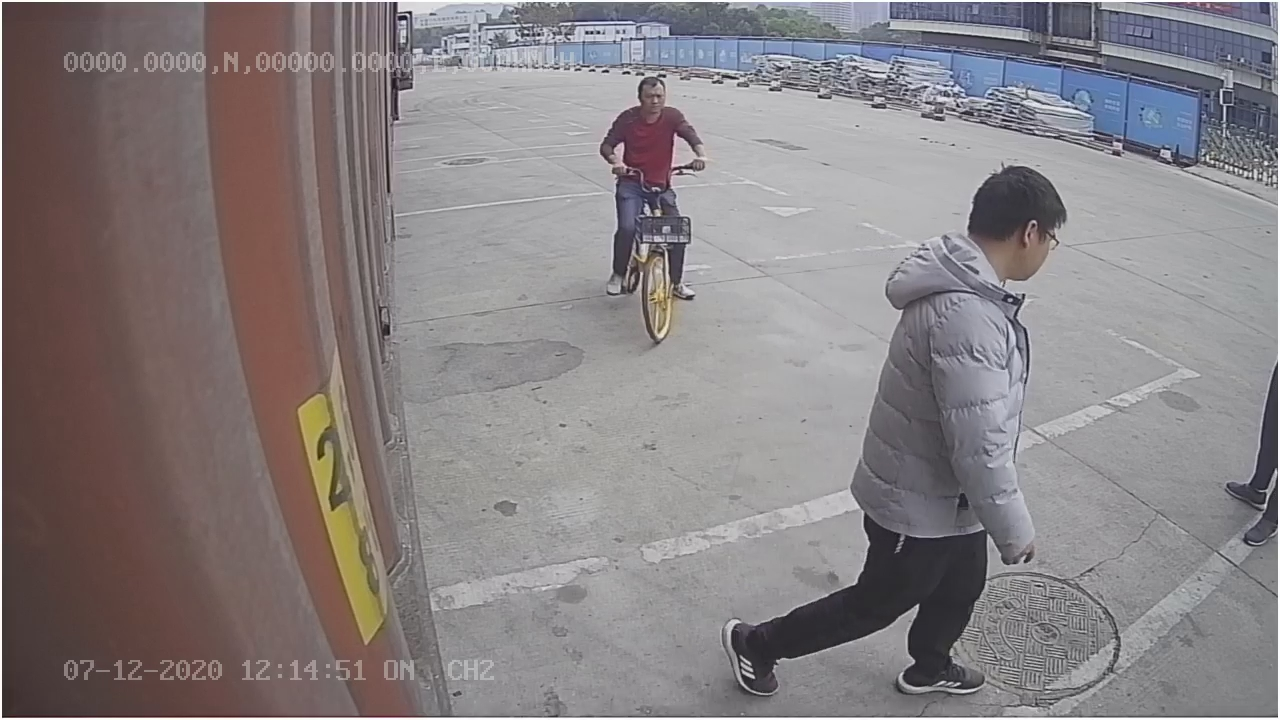person: (719, 146, 1071, 696)
